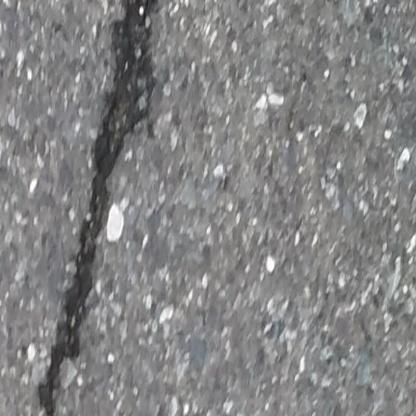Cracks: (36, 0, 161, 416)
